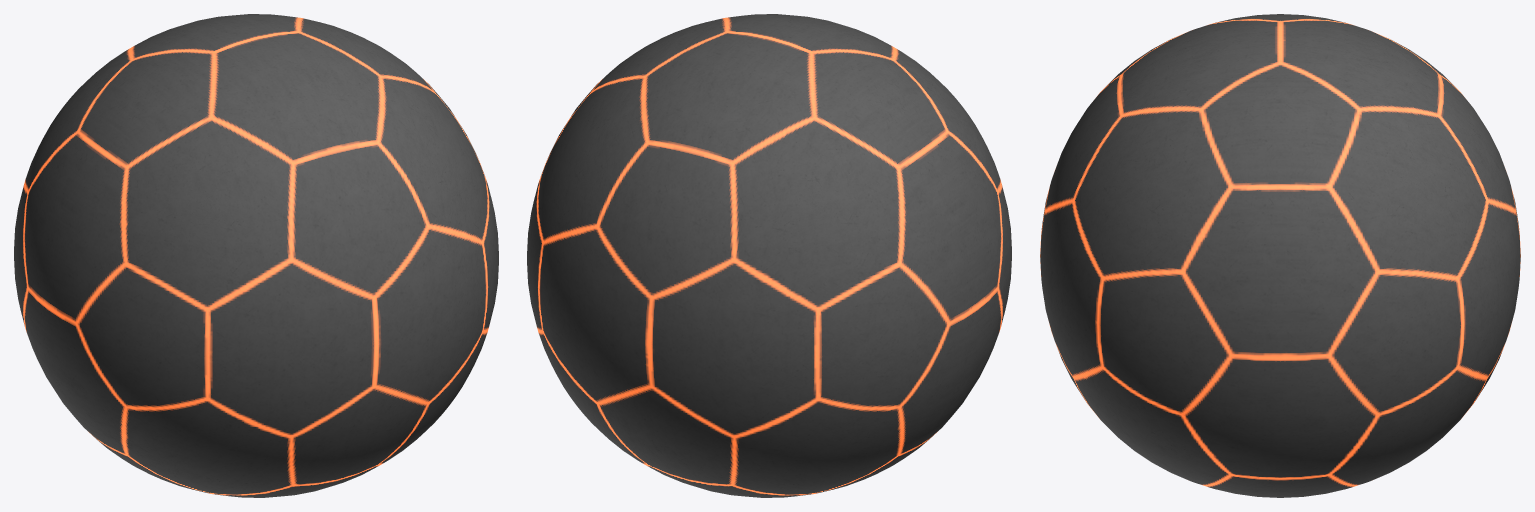
File: sci_fi_football.glb
3 views of the same model, side by side, from view 1: azimuth 30°, elevation 25°; view 2: azimuth 150°, elevation 25°; view 3: azimuth 270°, elevation 25° (orthographic).
Visible parts, largest first — view 1: Sci-Fi Football; view 2: Sci-Fi Football; view 3: Sci-Fi Football.
Part boxes in pixels (x1,y1,x2,y2): Sci-Fi Football: (14, 14, 498, 497); Sci-Fi Football: (527, 14, 1011, 497); Sci-Fi Football: (1040, 14, 1520, 497).
Size of the model in its own units: 0.2512 by 0.2512 by 0.2512.
Materials: 1 (1 with a texture image).
